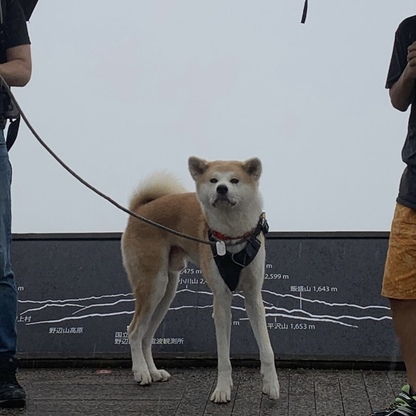akita: (115, 151, 290, 409)
